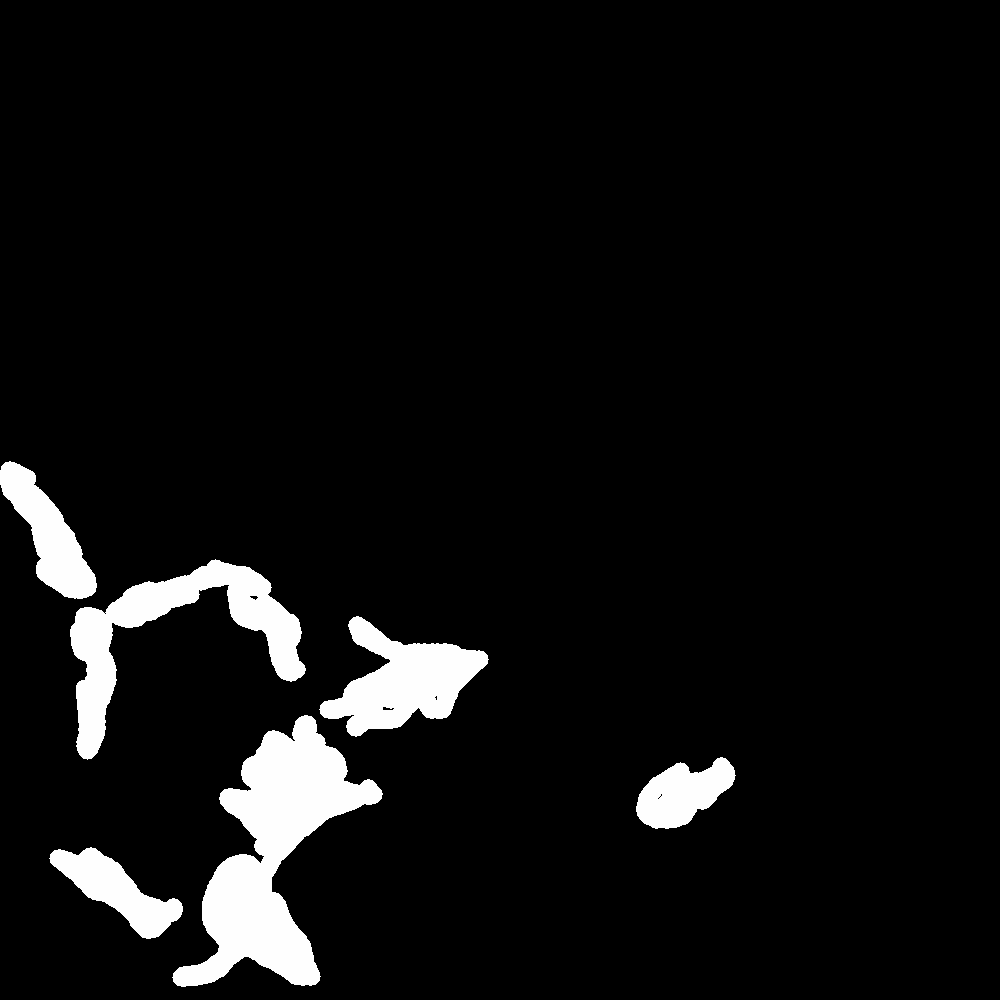illegal: (169, 648, 479, 999), (8, 491, 198, 766), (194, 570, 398, 678), (57, 850, 183, 939), (624, 761, 742, 838)
